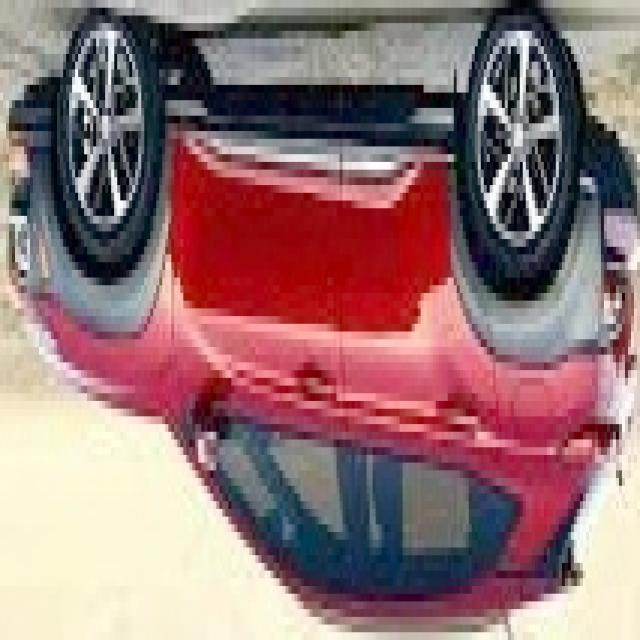maroon: (14, 23, 640, 609)
